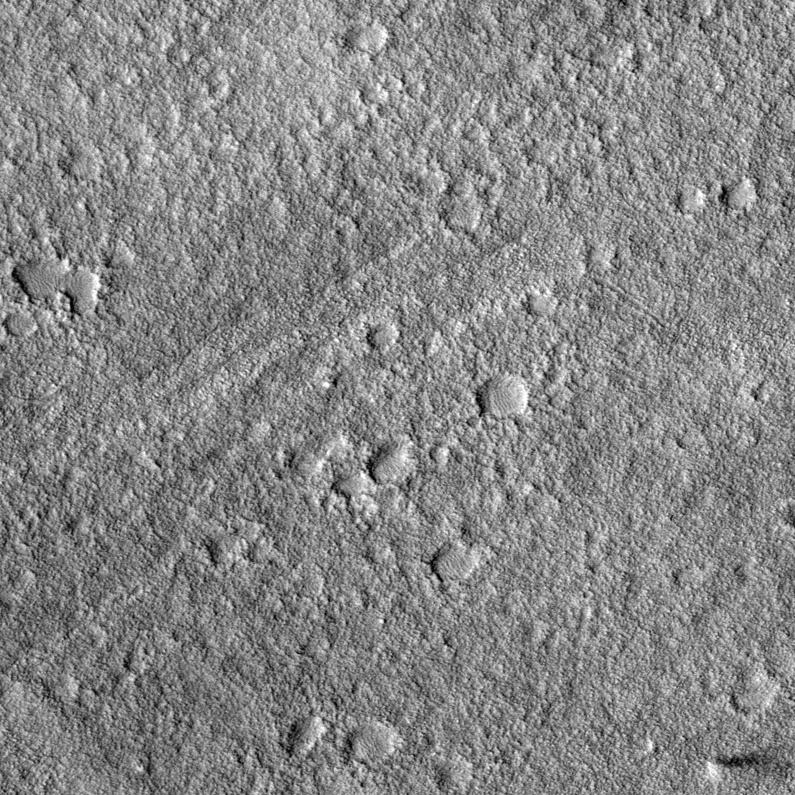dust_devil: (704, 743, 787, 786)
